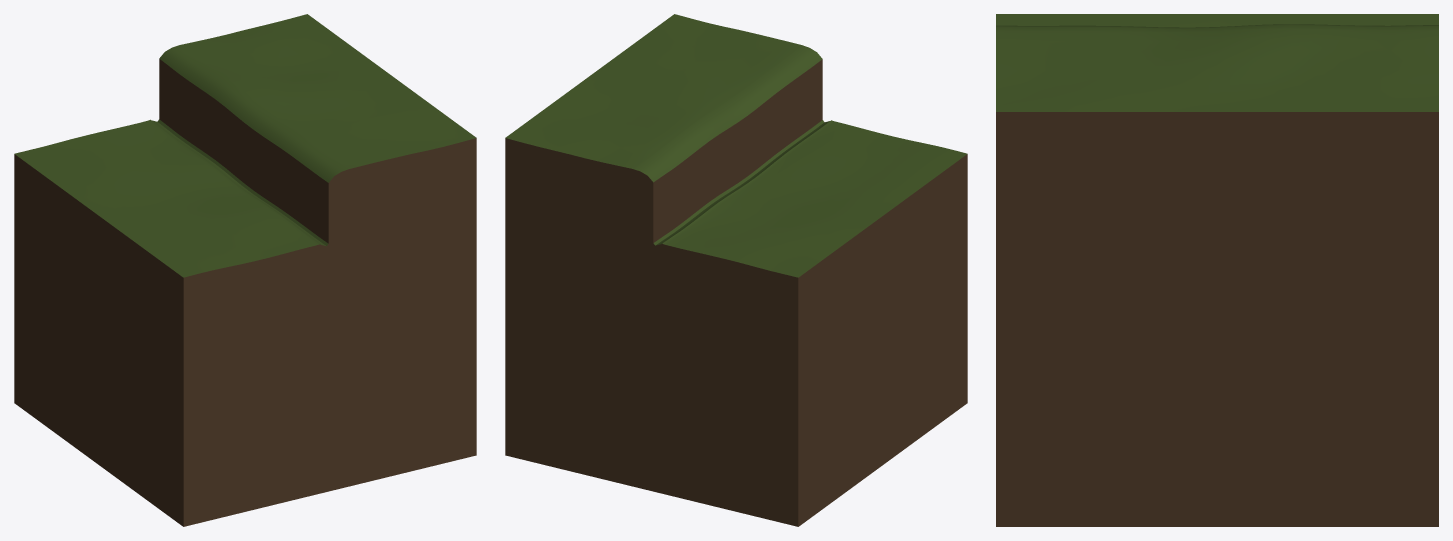
3 renders of one model, left to right at view 1: azimuth 30°, elevation 25°; view 2: azimuth 150°, elevation 25°; view 3: azimuth 270°, elevation 25°, orthographic. The views are drawn at different scales.
Visible parts, largest first — view 1: s2go; view 2: s2go; view 3: s2go.
Part boxes in pixels (<box>): s2go: <box>14,14,476,526</box>; s2go: <box>505,14,967,526</box>; s2go: <box>996,14,1438,526</box>.
Bounding box in the file's own units: 9 × 9.35 × 9.
